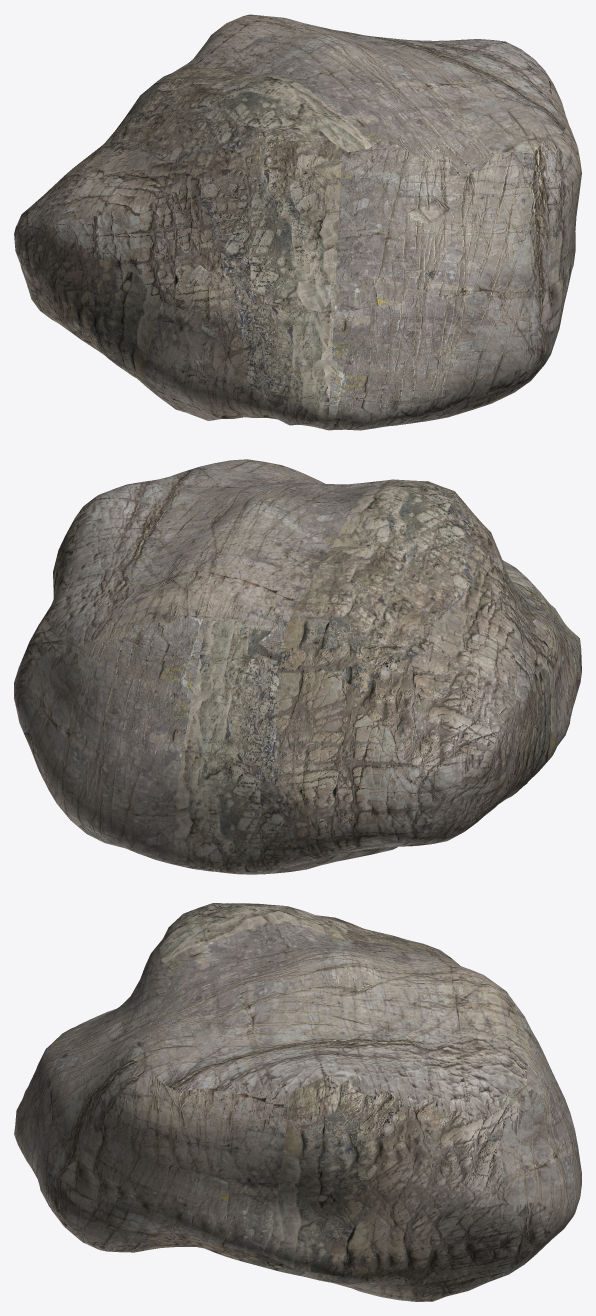
The model's file is stone_b_2.fbx.
3 views of the same model, one above another, from view 1: azimuth 30°, elevation 25°; view 2: azimuth 150°, elevation 25°; view 3: azimuth 270°, elevation 25° (orthographic). The views are drawn at different scales.
Visible parts, largest first — view 1: Sphere; view 2: Sphere; view 3: Sphere.
Part boxes in pixels (<box>): Sphere: <box>14,14,581,430</box>; Sphere: <box>14,459,581,874</box>; Sphere: <box>14,903,581,1301</box>.
Bounding box in the file's own units: 2363 × 1519 × 2500.
Materials: 1 (1 with a texture image).
